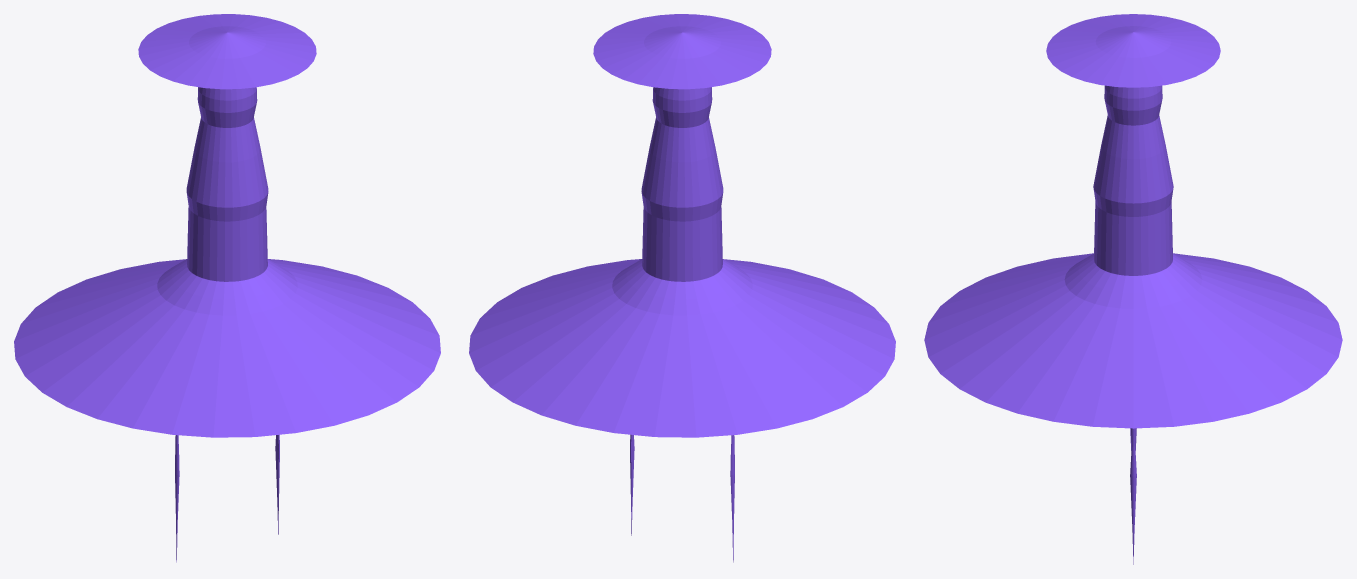
File: person.glb
The picture shows the model from 3 angles, left to right: view 1: azimuth 30°, elevation 25°; view 2: azimuth 150°, elevation 25°; view 3: azimuth 270°, elevation 25°; orthographic projection. The views are drawn at different scales.
Parts seen in each view (by area): view 1: Cylinder; view 2: Cylinder; view 3: Cylinder.
Part boxes in pixels (x1,y1,x2,y2): Cylinder: [14, 14, 440, 562]; Cylinder: [469, 14, 895, 562]; Cylinder: [924, 14, 1342, 564].
Bounding box in the file's own units: 5.8 × 7.77 × 5.8.
